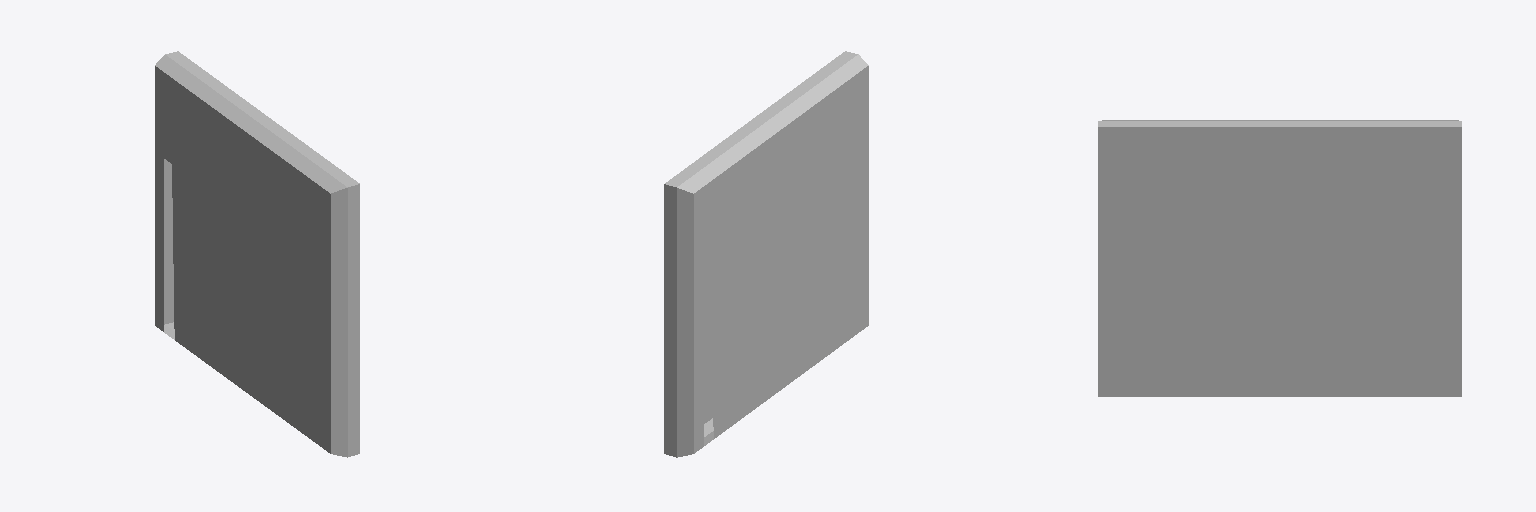
Rendered from Fridge2.obj.
3 renders of one model, left to right at view 1: azimuth 30°, elevation 25°; view 2: azimuth 150°, elevation 25°; view 3: azimuth 270°, elevation 25°, orthographic.
Parts seen in each view (by area): view 1: FridgePuertaSuperior_polySurface3B_Electric_0_007_1; view 2: FridgePuertaSuperior_polySurface3B_Electric_0_007_1; view 3: FridgePuertaSuperior_polySurface3B_Electric_0_007_1.
Part boxes in pixels (x1,y1,x2,y2): FridgePuertaSuperior_polySurface3B_Electric_0_007_1: (155,51,359,457); FridgePuertaSuperior_polySurface3B_Electric_0_007_1: (664,51,868,457); FridgePuertaSuperior_polySurface3B_Electric_0_007_1: (1098,120,1461,396).
Bounding box in the file's own units: 0.1299 × 1.24 × 1.51.